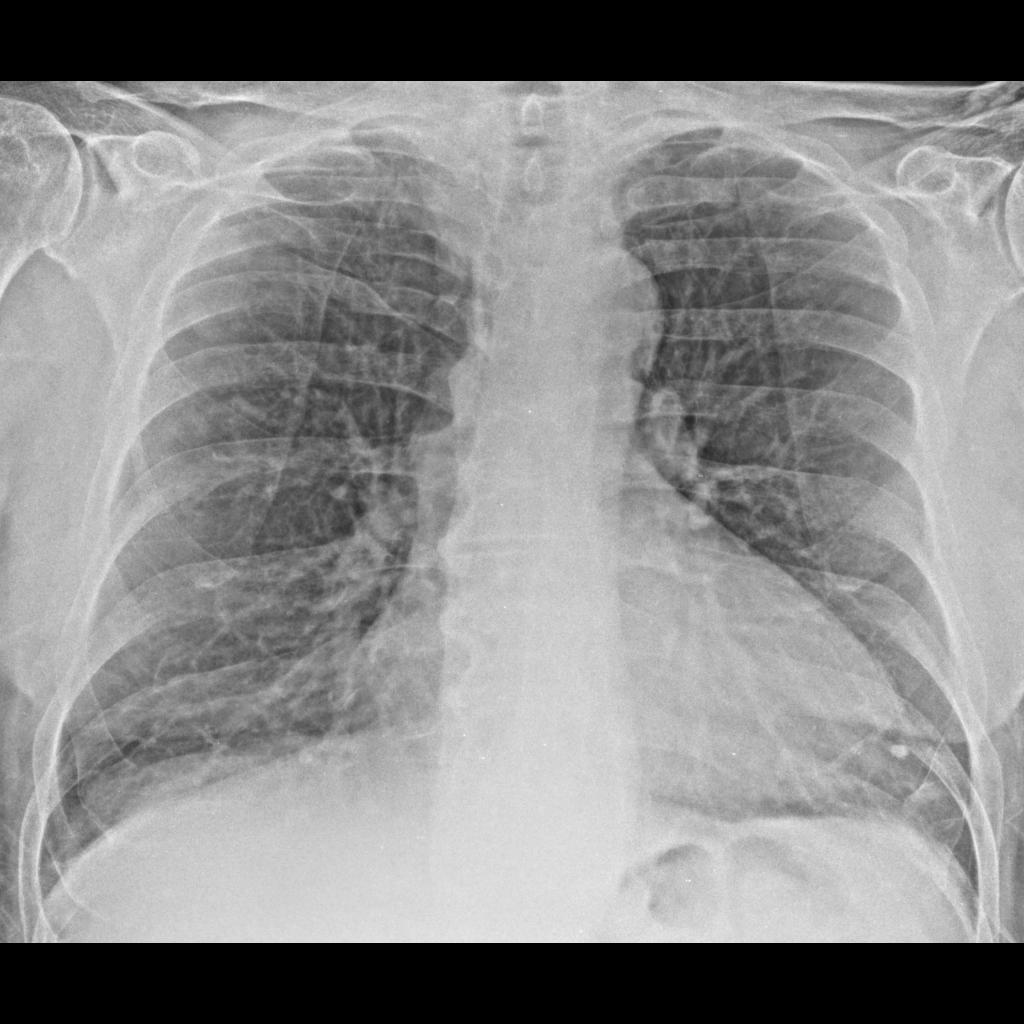Nodule: (887, 732, 915, 771)
